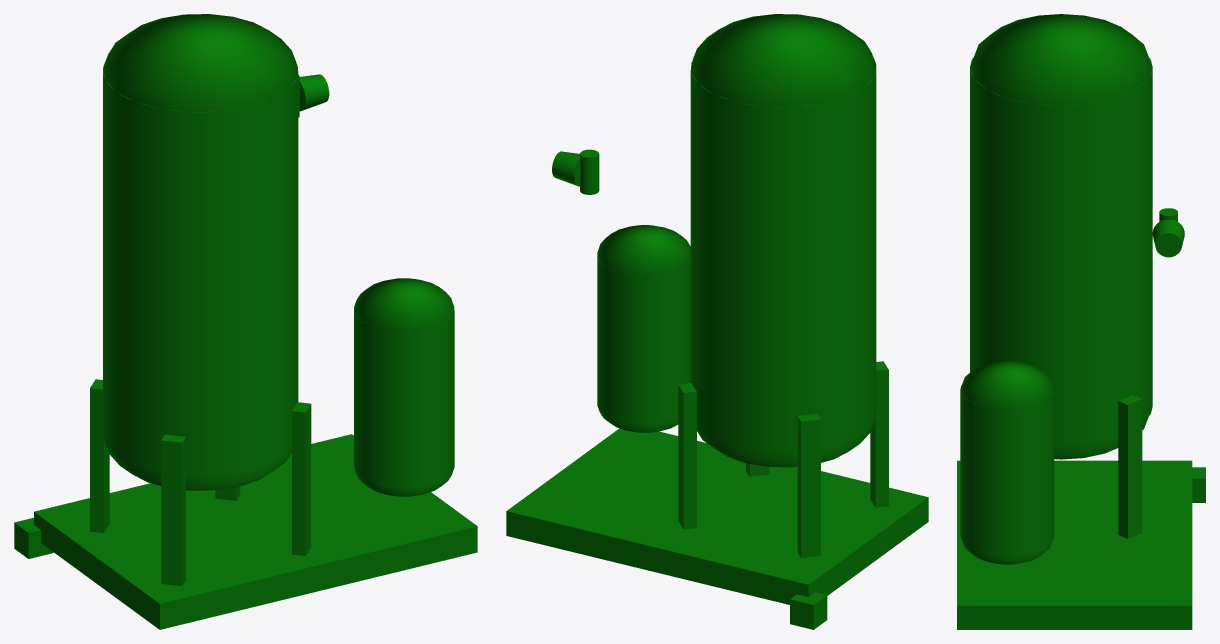
File: Image-1711348082502-2280305669504_53-GZ50.fbx
3 renders of one model, left to right at view 1: azimuth 30°, elevation 25°; view 2: azimuth 150°, elevation 25°; view 3: azimuth 270°, elevation 25°, orthographic. The views are drawn at different scales.
Parts seen in each view (by area): view 1: CYLINDER 1 of SUBEQUIPMENT /53-GW50, BOX 1 of SUBEQUIPMENT /53-GZ50/SKID, CYLINDER 1 of SUBEQUIPMENT /53-GZ50-EXPANSION-TANK, DISH 1 of SUBEQUIPMENT /53-GW50, DISH 1 of SUBEQUIPMENT /53-GZ50-EXPANSION-TANK, BOX 3 of SUBEQUIPMENT /53-GW50/SUPT, BOX 2 of SUBEQUIPMENT /53-GW50/SUPT, BOX 1 of SUBEQUIPMENT /53-GW50/SUPT, DISH 2 of SUBEQUIPMENT /53-GW50, BOX 1 of SUBEQUIPMENT /53-2984WD, CONE 1 of SUBEQUIPMENT /53-PA52, DISH 2 of SUBEQUIPMENT /53-GZ50-EXPANSION-TANK; view 2: CYLINDER 1 of SUBEQUIPMENT /53-GW50, BOX 1 of SUBEQUIPMENT /53-GZ50/SKID, CYLINDER 1 of SUBEQUIPMENT /53-GZ50-EXPANSION-TANK, DISH 1 of SUBEQUIPMENT /53-GW50, DISH 1 of SUBEQUIPMENT /53-GZ50-EXPANSION-TANK, BOX 1 of SUBEQUIPMENT /53-GW50/SUPT, BOX 4 of SUBEQUIPMENT /53-GW50/SUPT, BOX 3 of SUBEQUIPMENT /53-GW50/SUPT, DISH 2 of SUBEQUIPMENT /53-GW50, BOX 1 of SUBEQUIPMENT /53-2984WD, CYLINDER 1 of SUBEQUIPMENT /53-PA52, CONE 1 of SUBEQUIPMENT /53-PA52 (+1 smaller); view 3: CYLINDER 1 of SUBEQUIPMENT /53-GW50, BOX 1 of SUBEQUIPMENT /53-GZ50/SKID, CYLINDER 1 of SUBEQUIPMENT /53-GZ50-EXPANSION-TANK, DISH 1 of SUBEQUIPMENT /53-GW50, DISH 1 of SUBEQUIPMENT /53-GZ50-EXPANSION-TANK, BOX 4 of SUBEQUIPMENT /53-GW50/SUPT, DISH 2 of SUBEQUIPMENT /53-GW50, CONE 1 of SUBEQUIPMENT /53-PA52, DISH 2 of SUBEQUIPMENT /53-GZ50-EXPANSION-TANK, BOX 1 of SUBEQUIPMENT /53-2984WD.
Part boxes in pixels (x1,y1,x2,y2): CYLINDER 1 of SUBEQUIPMENT /53-GW50: (103,64,298,474); BOX 1 of SUBEQUIPMENT /53-GZ50/SKID: (34,434,477,629); CYLINDER 1 of SUBEQUIPMENT /53-GZ50-EXPANSION-TANK: (354,306,454,486); DISH 1 of SUBEQUIPMENT /53-GW50: (103,14,297,112); DISH 1 of SUBEQUIPMENT /53-GZ50-EXPANSION-TANK: (354,278,454,330); BOX 3 of SUBEQUIPMENT /53-GW50/SUPT: (161,434,185,586); BOX 2 of SUBEQUIPMENT /53-GW50/SUPT: (292,402,311,555); BOX 1 of SUBEQUIPMENT /53-GW50/SUPT: (90,379,109,533); DISH 2 of SUBEQUIPMENT /53-GW50: (105,442,291,490); BOX 1 of SUBEQUIPMENT /53-2984WD: (14,517,53,558); CONE 1 of SUBEQUIPMENT /53-PA52: (299,74,329,111); DISH 2 of SUBEQUIPMENT /53-GZ50-EXPANSION-TANK: (355,468,454,496); CYLINDER 1 of SUBEQUIPMENT /53-GW50: (690,62,876,452); BOX 1 of SUBEQUIPMENT /53-GZ50/SKID: (506,428,928,604); CYLINDER 1 of SUBEQUIPMENT /53-GZ50-EXPANSION-TANK: (597,251,690,423); DISH 1 of SUBEQUIPMENT /53-GW50: (691,14,875,107); DISH 1 of SUBEQUIPMENT /53-GZ50-EXPANSION-TANK: (597,225,690,274); BOX 1 of SUBEQUIPMENT /53-GW50/SUPT: (797,414,820,557); BOX 4 of SUBEQUIPMENT /53-GW50/SUPT: (678,383,696,529); BOX 3 of SUBEQUIPMENT /53-GW50/SUPT: (870,361,888,507); DISH 2 of SUBEQUIPMENT /53-GW50: (697,421,874,467); BOX 1 of SUBEQUIPMENT /53-2984WD: (790,592,827,629); CYLINDER 1 of SUBEQUIPMENT /53-PA52: (580,149,599,194); CONE 1 of SUBEQUIPMENT /53-PA52: (552,151,579,186); CYLINDER 1 of SUBEQUIPMENT /53-GW50: (970,57,1152,444); BOX 1 of SUBEQUIPMENT /53-GZ50/SKID: (957,460,1192,629); CYLINDER 1 of SUBEQUIPMENT /53-GZ50-EXPANSION-TANK: (960,385,1054,555); DISH 1 of SUBEQUIPMENT /53-GW50: (970,14,1152,105); DISH 1 of SUBEQUIPMENT /53-GZ50-EXPANSION-TANK: (960,360,1054,409); BOX 4 of SUBEQUIPMENT /53-GW50/SUPT: (1118,395,1142,538); DISH 2 of SUBEQUIPMENT /53-GW50: (1054,417,1148,459); CONE 1 of SUBEQUIPMENT /53-PA52: (1152,220,1184,257); DISH 2 of SUBEQUIPMENT /53-GZ50-EXPANSION-TANK: (962,541,1052,564); BOX 1 of SUBEQUIPMENT /53-2984WD: (1192,467,1205,502).
Bounding box in the file's own units: 1.32 × 0.925 × 2.1.
